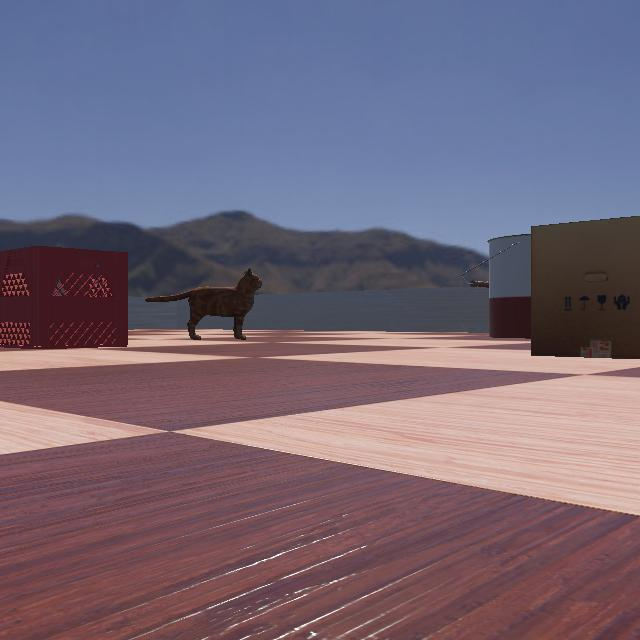cardboard-box: (505, 210, 639, 360), (505, 210, 639, 360)
cat: (143, 265, 264, 339), (143, 265, 264, 339), (143, 265, 264, 339)
plastic-crate: (0, 244, 144, 350)
